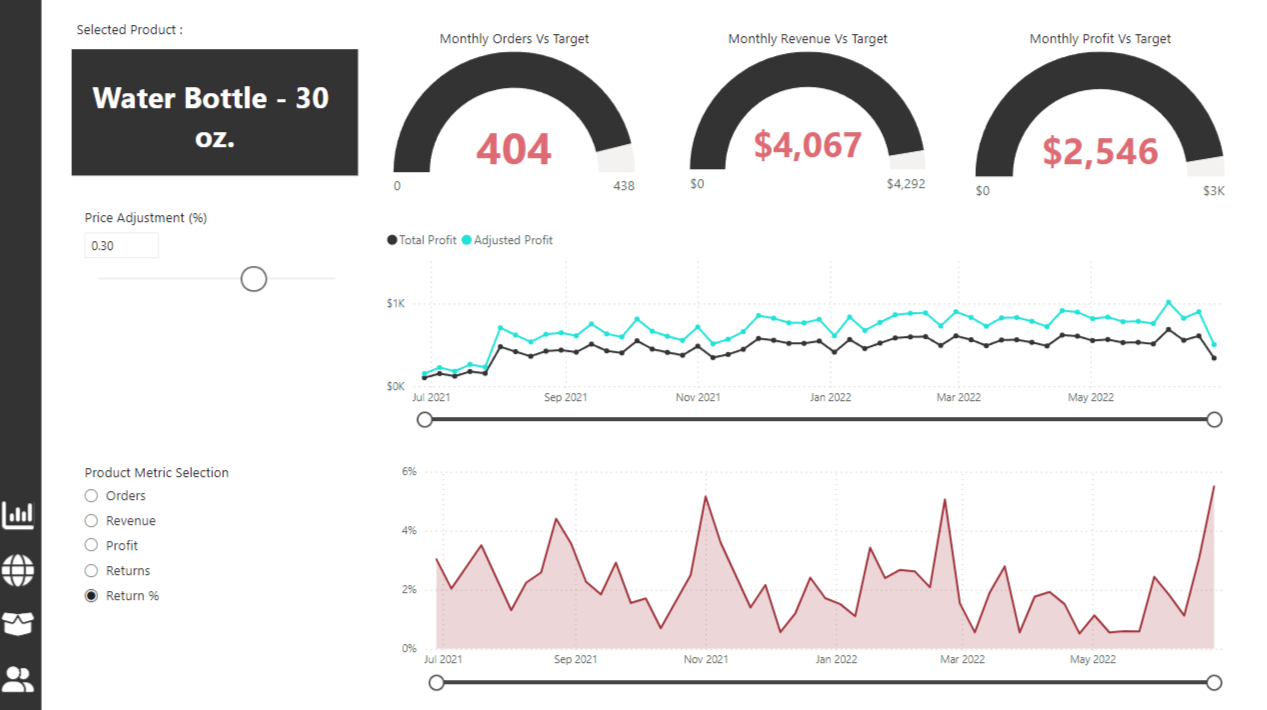

This screenshot's page, from the dashboard's own definition file:
{"tool":"powerbi","page":{"name":"Product Detail","canvas":[1280,720],"ordinal":2},"visuals":[{"type":"shape","box":[0,0,45,720],"z":0},{"type":"actionButton","box":[0.8,501.7,45,40],"z":1000,"group":"g1"},{"type":"gauge","title":"Monthly Orders Vs Target","fields":{"Y":["Measure Table.Total Orders"],"MaxValue":["Measure Table.Order Target"]},"box":[384.5,34.5,265.5,175.9],"z":1000},{"type":"gauge","title":"Monthly Revenue Vs Target","fields":{"Y":["Measure Table.Total Revenue"],"MaxValue":["Measure Table.Revenue Target"]},"box":[669.1,34.5,285.1,173],"z":2000},{"type":"actionButton","box":[0.8,556.1,45,40],"z":2000,"group":"g1"},{"type":"gauge","title":"Monthly Profit Vs Target","fields":{"Y":["Measure Table.Total Profit"],"MaxValue":["Measure Table.Profit Target"]},"box":[973.3,34.5,260,180],"z":3000},{"type":"actionButton","box":[0.8,610.6,45,40],"z":3000,"group":"g1"},{"type":"actionButton","box":[0.8,665,45,40],"z":4000,"group":"g1"},{"type":"lineChart","title":"Profit Trending","fields":{"Category":["Calendar Lookup.Date Hierarchy.Start of Year","Calendar Lookup.Date Hierarchy.Start of Month","Calendar Lookup.Date Hierarchy.Start of Week","Calendar Lookup.Date Hierarchy.Date"],"Y":["Measure Table.Total Profit","Measure Table.Adjusted Profit"]},"box":[385,226.7,861.7,210],"z":4000},{"type":"areaChart","title":"Returns Trending","fields":{"Y":["Measure Table.Return Rate"],"Category":["Calendar Lookup.Start of Week.Variation.Date Hierarchy.Year","Calendar Lookup.Start of Week.Variation.Date Hierarchy.Quarter","Calendar Lookup.Start of Week.Variation.Date Hierarchy.Month","Calendar Lookup.Start of Week.Variation.Date Hierarchy.Day"]},"box":[400,463.3,846.7,235],"z":5000},{"type":"card","fields":{"Values":["Min(Product Lookup.Product Name)"]},"box":[75,55,286.7,126.7],"z":6000},{"type":"textbox","box":[75,21.7,241.7,33.3],"z":7000},{"type":"group","id":"g1","title":"Navigation Buttons","box":[0.8,501.7,45,203.3],"z":8000},{"type":"slicer","fields":{"Values":["Price Adjustment (%).Price Adjustment (%)"]},"box":[75,208.3,286.7,151.7],"z":9000},{"type":"slicer","fields":{"Values":["Product Metric Selection.Product Metric Selection"]},"box":[75,463.3,286.7,221.7],"z":10000}]}

Visuals, with their boxes on the page's 1280x720 design canvas (x1, y1, x2, y2). These are canvas units, not pixel positions in the 1267x710 screenshot, which may show the page scaled, cropped or inside an application window:
shape: (x1=0, y1=0, x2=45, y2=720)
actionButton: (x1=1, y1=502, x2=46, y2=542)
"Monthly Orders Vs Target" gauge: (x1=384, y1=34, x2=650, y2=210)
"Monthly Revenue Vs Target" gauge: (x1=669, y1=34, x2=954, y2=208)
actionButton: (x1=1, y1=556, x2=46, y2=596)
"Monthly Profit Vs Target" gauge: (x1=973, y1=34, x2=1233, y2=214)
actionButton: (x1=1, y1=611, x2=46, y2=651)
actionButton: (x1=1, y1=665, x2=46, y2=705)
"Profit Trending" lineChart: (x1=385, y1=227, x2=1247, y2=437)
"Returns Trending" areaChart: (x1=400, y1=463, x2=1247, y2=698)
card - Min(Product Lookup.Product Name): (x1=75, y1=55, x2=362, y2=182)
textbox: (x1=75, y1=22, x2=317, y2=55)
"Navigation Buttons" group: (x1=1, y1=502, x2=46, y2=705)
slicer - Price Adjustment (%).Price Adjustment (%): (x1=75, y1=208, x2=362, y2=360)
slicer - Product Metric Selection.Product Metric Selection: (x1=75, y1=463, x2=362, y2=685)
